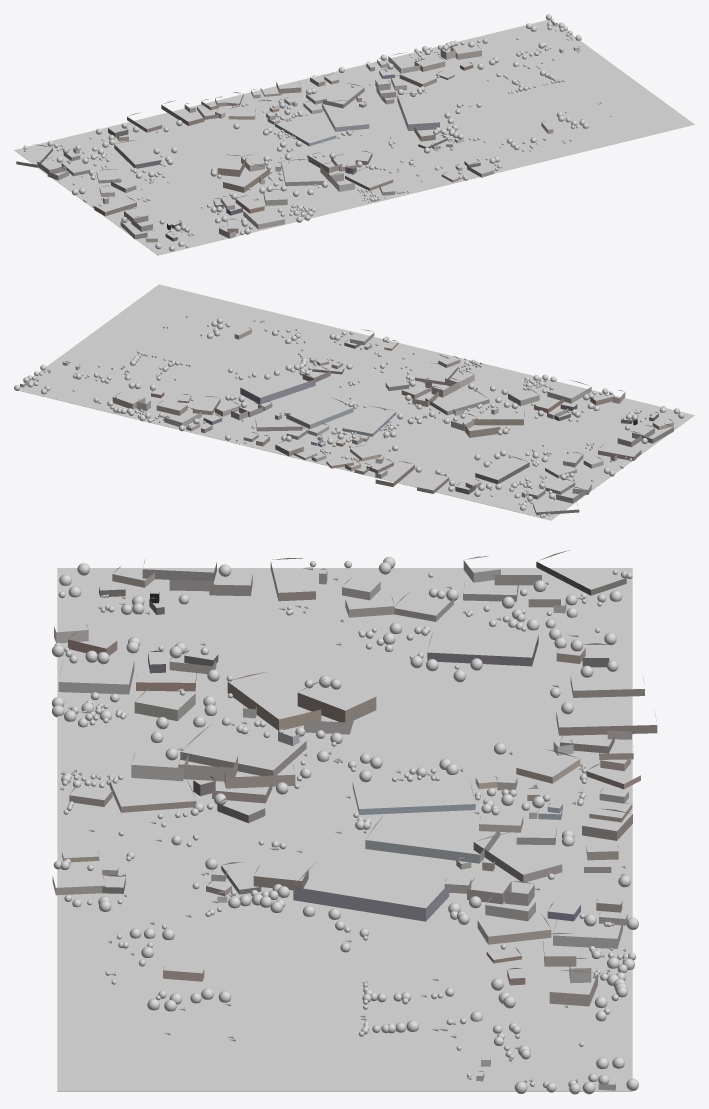
The model's file is scene_f2a2dd69-85d3-4484-baf5-6f0a93d9cb6f.glb.
3 views of the same model, one above another, from view 1: azimuth 30°, elevation 25°; view 2: azimuth 150°, elevation 25°; view 3: azimuth 270°, elevation 25° (orthographic). The views are drawn at different scales.
Parts seen in each view (by area): view 1: Ground_Base; view 2: Ground_Base, BLD-001; view 3: Ground_Base, BLD-001, BLD-002, BLD-007, BLD-009, BLD-003, BLD-005, BLD-004, BLD-006, BLD-010, BLD-021, BLD-015 (+1 smaller).
Boxes of the visible parts, bbox=[...] form: Ground_Base: bbox=[14, 19, 694, 255]; Ground_Base: bbox=[19, 284, 694, 520]; BLD-001: bbox=[240, 370, 315, 404]; Ground_Base: bbox=[57, 568, 632, 1091]; BLD-001: bbox=[293, 862, 449, 921]; BLD-002: bbox=[365, 813, 500, 863]; BLD-007: bbox=[227, 672, 321, 730]; BLD-009: bbox=[297, 679, 376, 722]; BLD-003: bbox=[180, 724, 306, 775]; BLD-005: bbox=[427, 634, 538, 666]; BLD-004: bbox=[352, 781, 475, 814]; BLD-006: bbox=[556, 711, 657, 735]; BLD-010: bbox=[58, 661, 134, 694]; BLD-021: bbox=[178, 753, 237, 781]; BLD-015: bbox=[222, 764, 295, 788].
Size of the model in its own units: 1211 by 20.95 by 576.
